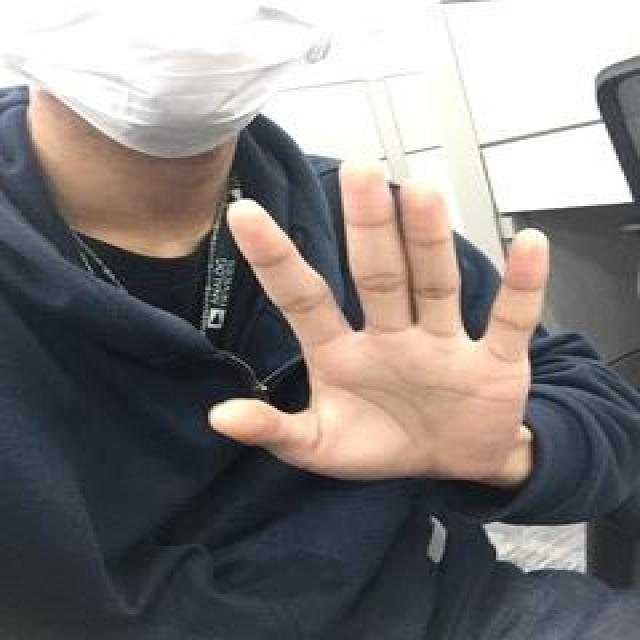hand: (208, 156, 555, 490)
